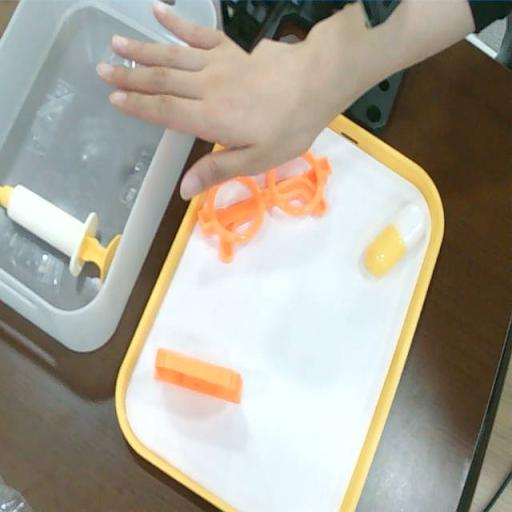hospital: (98, 6, 360, 200)
